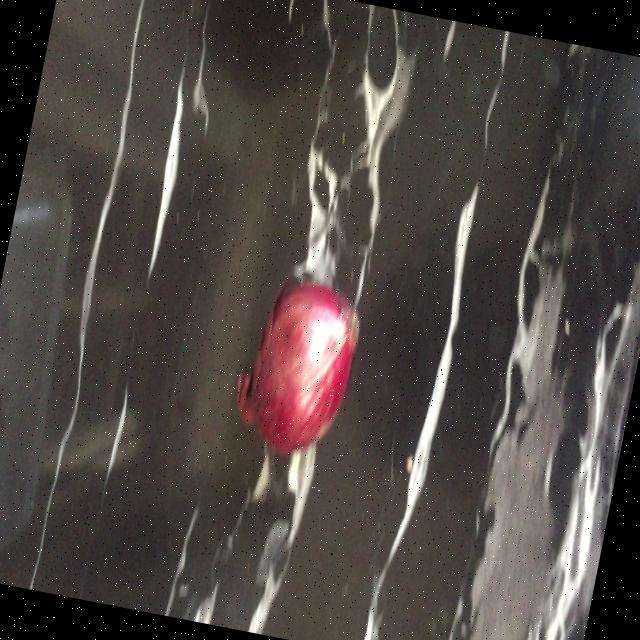Onion: (238, 280, 361, 454)
